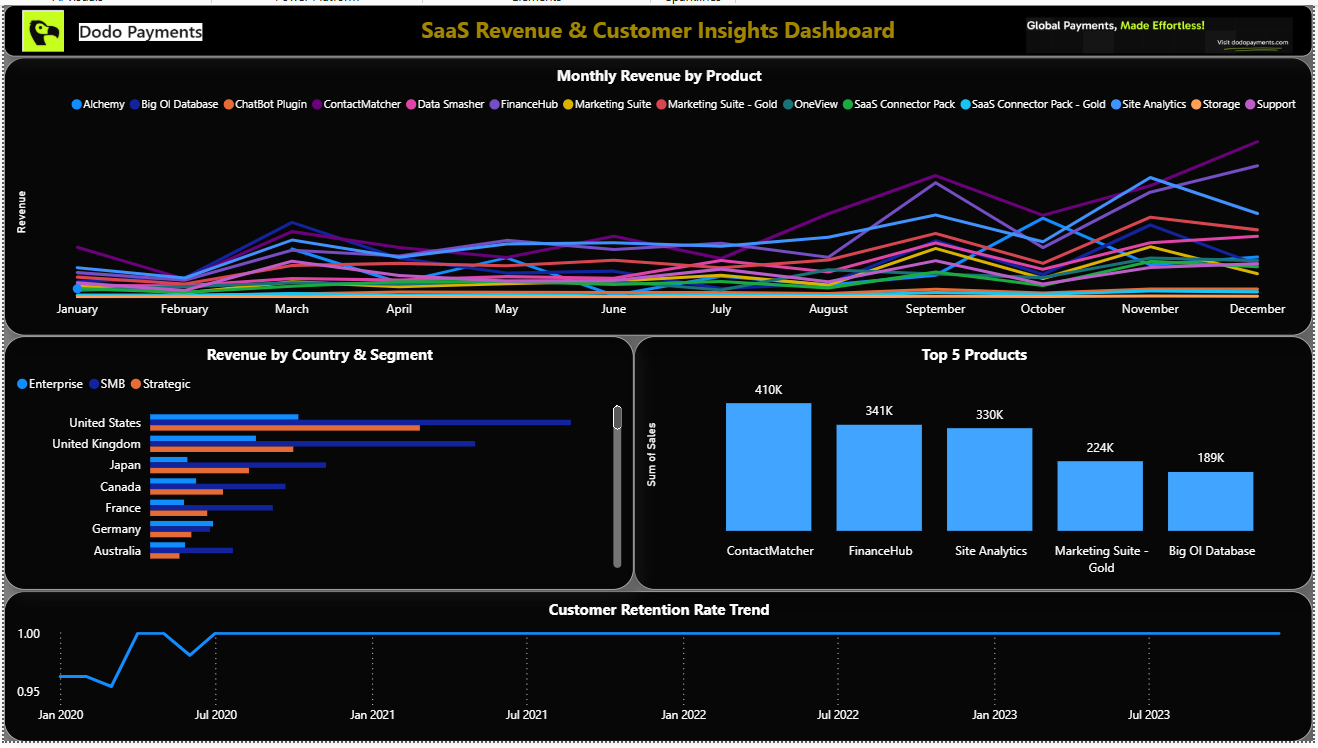

The dashboard page shown, as its layout file describes it:
{"tool":"powerbi","page":{"name":"Dashboard","canvas":[1280,720],"ordinal":1},"visuals":[{"type":"lineChart","title":"Monthly Revenue by Product","fields":{"Y":["Sum(SaaS-Sales_B8E9E49F6C.Sales)"],"Series":["SaaS-Sales_B8E9E49F6C.Product"],"Category":["SaaS-Sales_B8E9E49F6C.Order Date.Variation.Date Hierarchy.Month"]},"box":[0,50.8,1280.3,271.7],"z":0},{"type":"columnChart","title":"Top 5 Products","fields":{"Category":["SaaS-Sales_B8E9E49F6C.Product"],"Y":["Sum(SaaS-Sales_B8E9E49F6C.Sales)"]},"box":[615.8,323.8,664.2,248.4],"z":1000},{"type":"areaChart","title":"Customer Retention Rate Trend","fields":{"Category":["SaaS-Sales_B8E9E49F6C.Order Date.Variation.Date Hierarchy.Year","SaaS-Sales_B8E9E49F6C.Order Date.Variation.Date Hierarchy.Quarter","SaaS-Sales_B8E9E49F6C.Order Date.Variation.Date Hierarchy.Month"],"Y":["SaaS-Sales_B8E9E49F6C.Customer Retention %"]},"box":[0,573.6,1280.3,146.8],"z":2000},{"type":"clusteredBarChart","title":"Revenue by Country & Segment","fields":{"Category":["SaaS-Sales_B8E9E49F6C.Country"],"Y":["Sum(SaaS-Sales_B8E9E49F6C.Sales)"],"Series":["SaaS-Sales_B8E9E49F6C.Segment"]},"box":[0,323.8,616.1,248.4],"z":3000},{"type":"textbox","box":[0,0,1280.3,50.8],"z":4000},{"type":"image","box":[65.9,0,130.4,52.1],"z":5000},{"type":"image","box":[986.6,4.1,293.7,48],"z":6000},{"type":"image","box":[11,0,57.6,48],"z":7000}]}

Visuals, with their boxes on the page's 1280x720 design canvas (x1, y1, x2, y2). These are canvas units, not pixel positions in the 1318x748 screenshot, which may show the page scaled, cropped or inside an application window:
"Monthly Revenue by Product" lineChart: l=0, t=51, r=1280, b=322
"Top 5 Products" columnChart: l=616, t=324, r=1280, b=572
"Customer Retention Rate Trend" areaChart: l=0, t=574, r=1280, b=720
"Revenue by Country & Segment" clusteredBarChart: l=0, t=324, r=616, b=572
textbox: l=0, t=0, r=1280, b=51
image: l=66, t=0, r=196, b=52
image: l=987, t=4, r=1280, b=52
image: l=11, t=0, r=69, b=48
